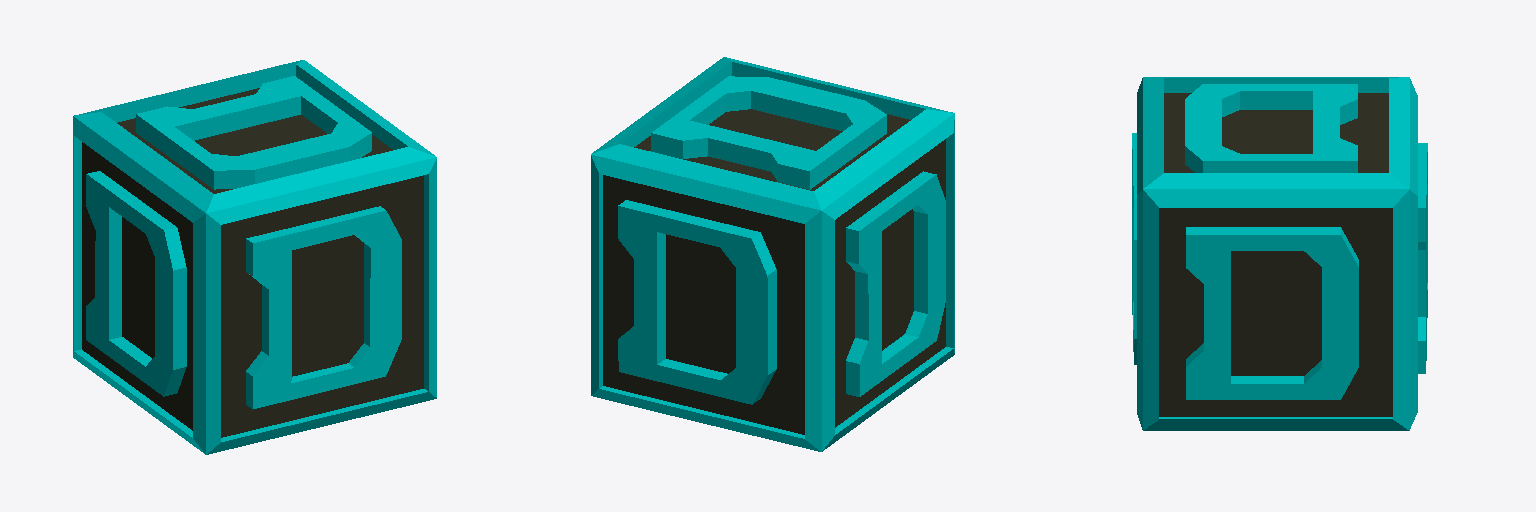
Rendered from LetterblockD.obj.
The picture shows the model from 3 angles: view 1: azimuth 30°, elevation 25°; view 2: azimuth 150°, elevation 25°; view 3: azimuth 270°, elevation 25°; orthographic projection.
Visible parts, largest first — view 1: pCube1_Untitled.005, pPlane4_Untitled.004, pPlane6_Untitled.001, pPlane5_Untitled.002; view 2: pCube1_Untitled.005, pPlane3_Untitled.006, pPlane6_Untitled.001, pPlane5_Untitled.002; view 3: pCube1_Untitled.005, pPlane2_Untitled, pPlane6_Untitled.001, pPlane3_Untitled.006, pPlane4_Untitled.004.
Boxes of the visible parts, x1=… form: pCube1_Untitled.005: x1=73, y1=60, x2=436, y2=454; pPlane4_Untitled.004: x1=246, y1=206, x2=401, y2=409; pPlane6_Untitled.001: x1=136, y1=76, x2=371, y2=189; pPlane5_Untitled.002: x1=86, y1=171, x2=186, y2=396; pCube1_Untitled.005: x1=591, y1=57, x2=954, y2=451; pPlane3_Untitled.006: x1=618, y1=200, x2=776, y2=404; pPlane6_Untitled.001: x1=651, y1=76, x2=886, y2=189; pPlane5_Untitled.002: x1=846, y1=171, x2=945, y2=396; pCube1_Untitled.005: x1=1137, y1=77, x2=1417, y2=430; pPlane2_Untitled: x1=1186, y1=227, x2=1358, y2=399; pPlane6_Untitled.001: x1=1185, y1=84, x2=1357, y2=172; pPlane3_Untitled.006: x1=1418, y1=143, x2=1427, y2=373; pPlane4_Untitled.004: x1=1132, y1=133, x2=1136, y2=364.
Bounding box in the file's own units: 1.06 × 1.03 × 1.03.